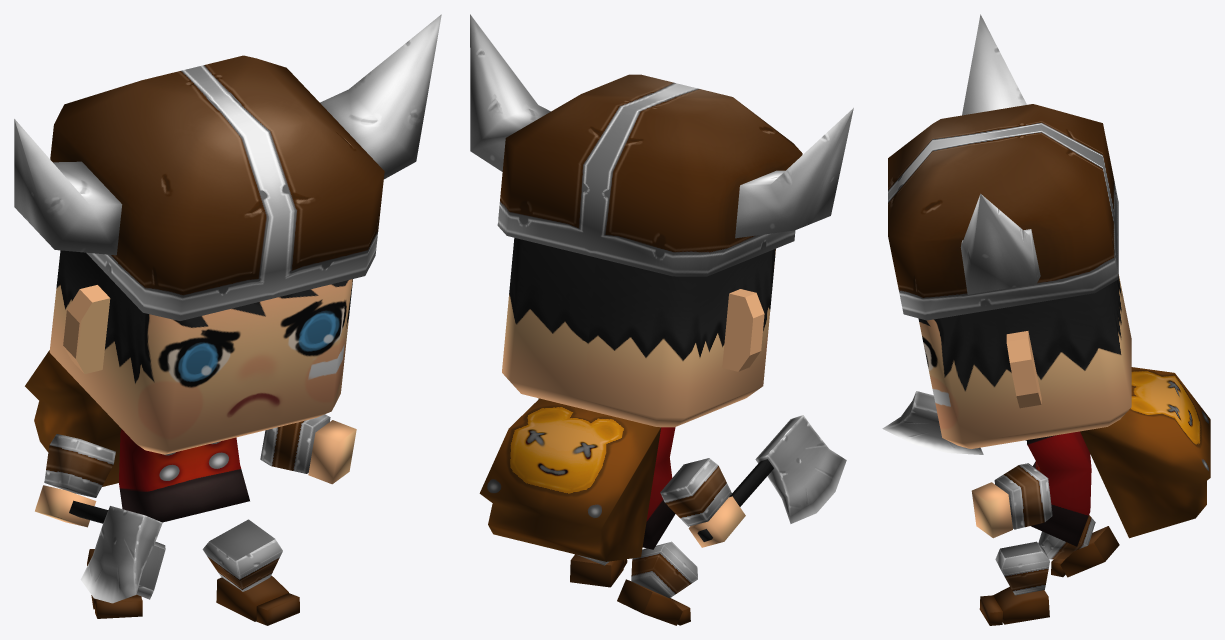
The model's file is mini_knight_000012.obj.
3 renders of one model, left to right at view 1: azimuth 30°, elevation 25°; view 2: azimuth 150°, elevation 25°; view 3: azimuth 270°, elevation 25°, orthographic. The views are drawn at different scales.
Visible parts, largest first — view 1: cap_Object01_Material__3, Mesh_objheadusOBJexport_Material, axe_Object02_Material__3, back_Object03_Material__3; view 2: cap_Object01_Material__3, Mesh_objheadusOBJexport_Material, back_Object03_Material__3, axe_Object02_Material__3; view 3: cap_Object01_Material__3, Mesh_objheadusOBJexport_Material, back_Object03_Material__3, axe_Object02_Material__3.
Part boxes in pixels (<box>): cap_Object01_Material__3: <box>14,14,441,320</box>; Mesh_objheadusOBJexport_Material: <box>35,250,356,625</box>; axe_Object02_Material__3: <box>69,500,162,603</box>; back_Object03_Material__3: <box>25,350,121,486</box>; cap_Object01_Material__3: <box>470,14,853,276</box>; Mesh_objheadusOBJexport_Material: <box>502,238,775,625</box>; back_Object03_Material__3: <box>479,398,661,561</box>; axe_Object02_Material__3: <box>697,415,846,541</box>; cap_Object01_Material__3: <box>888,14,1118,320</box>; Mesh_objheadusOBJexport_Material: <box>918,274,1131,625</box>; back_Object03_Material__3: <box>1080,367,1210,538</box>; axe_Object02_Material__3: <box>882,391,1026,454</box>.
Bounding box in the file's own units: 1.94 × 2.47 × 1.5.
